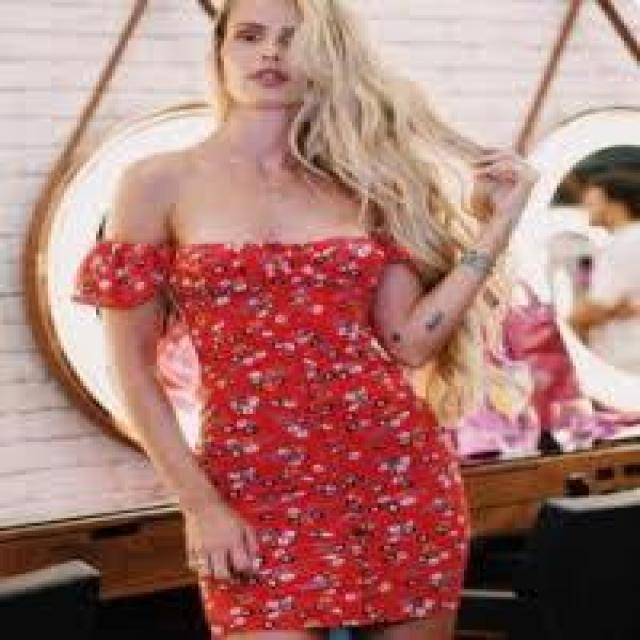person: (90, 0, 496, 635)
